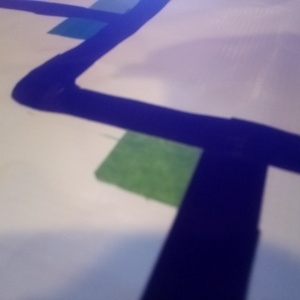bottom_left: (1, 165, 200, 299)
